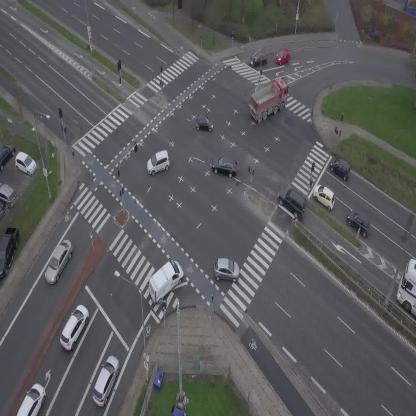car: (87, 353, 124, 408), (54, 302, 94, 352), (40, 237, 78, 286), (271, 183, 314, 222), (16, 381, 50, 416), (342, 208, 375, 238), (309, 182, 340, 211), (326, 153, 356, 181), (143, 149, 173, 176), (214, 258, 239, 282), (211, 156, 238, 178), (247, 50, 269, 67), (195, 114, 214, 131), (273, 48, 292, 65)
lorry: (242, 75, 298, 125), (139, 256, 189, 307)
